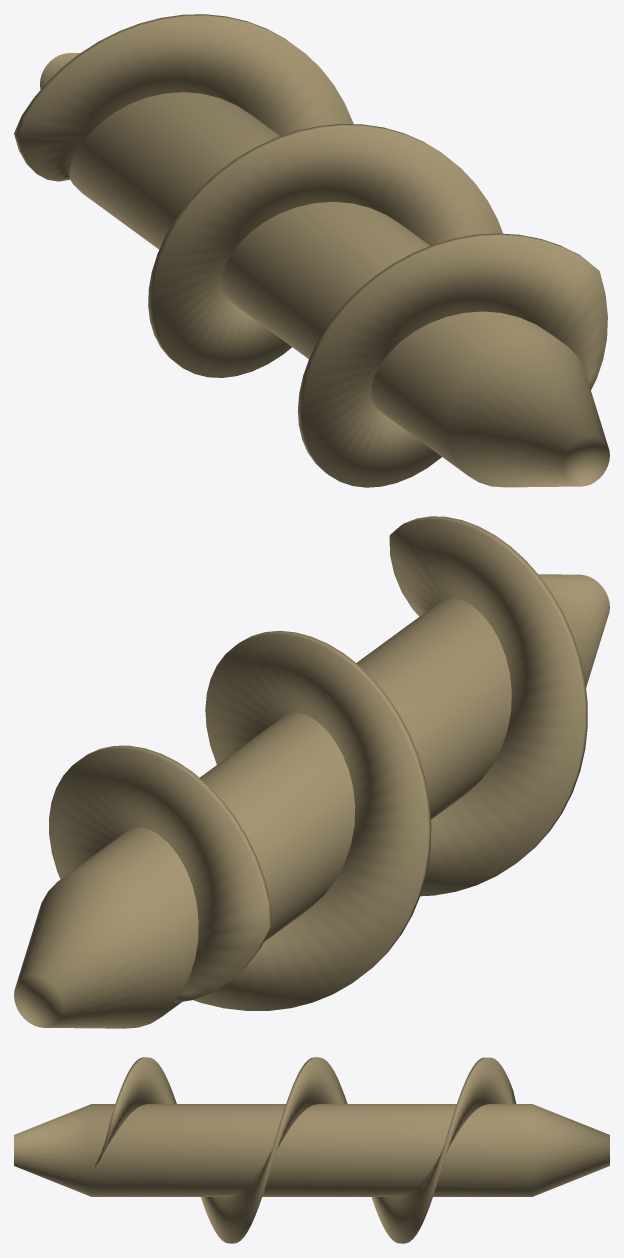
The model's file is screw_drum.glb.
3 renders of one model, top to bottom at view 1: azimuth 30°, elevation 25°; view 2: azimuth 150°, elevation 25°; view 3: azimuth 270°, elevation 25°, orthographic. The views are drawn at different scales.
Visible parts, largest first — view 1: screw_drum; view 2: screw_drum; view 3: screw_drum.
Part boxes in pixels (box(x1,y1,x2,y2)): screw_drum: box(14, 14, 609, 487); screw_drum: box(14, 516, 609, 1028); screw_drum: box(14, 1057, 609, 1243).
Bounding box in the file's own units: 0.5997 × 0.5998 × 1.92.
